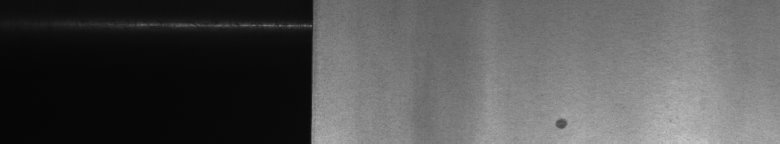fi: (552, 112, 572, 136)
